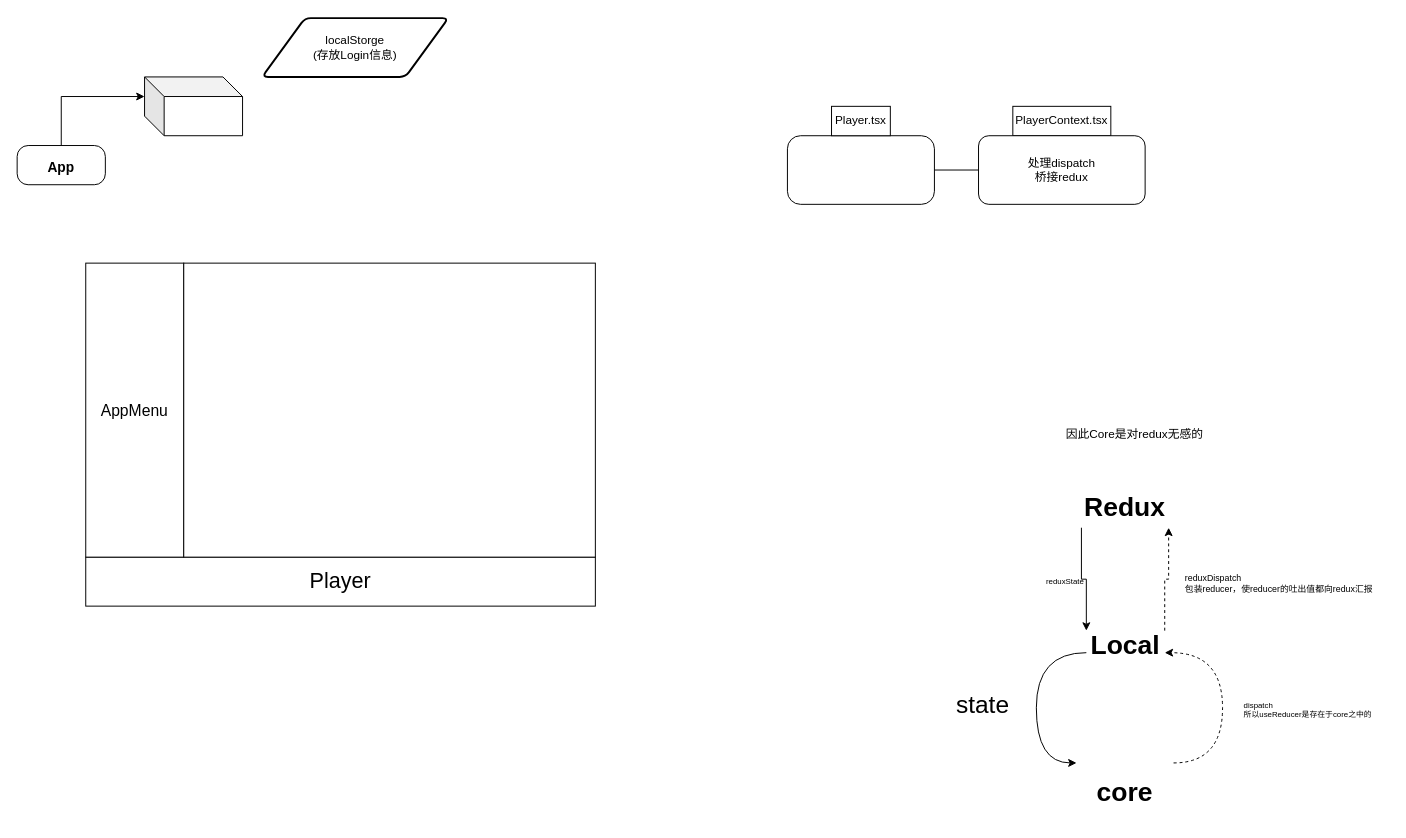
The diagram is 1406 pixels wide and 838 high, and some of its shapes have lost their labels. Each missing label, with the box of its shape:
abilities: (144, 76, 243, 136)
DetailArea: (183, 262, 595, 557)
屏幕渲染state: (786, 135, 934, 204)
